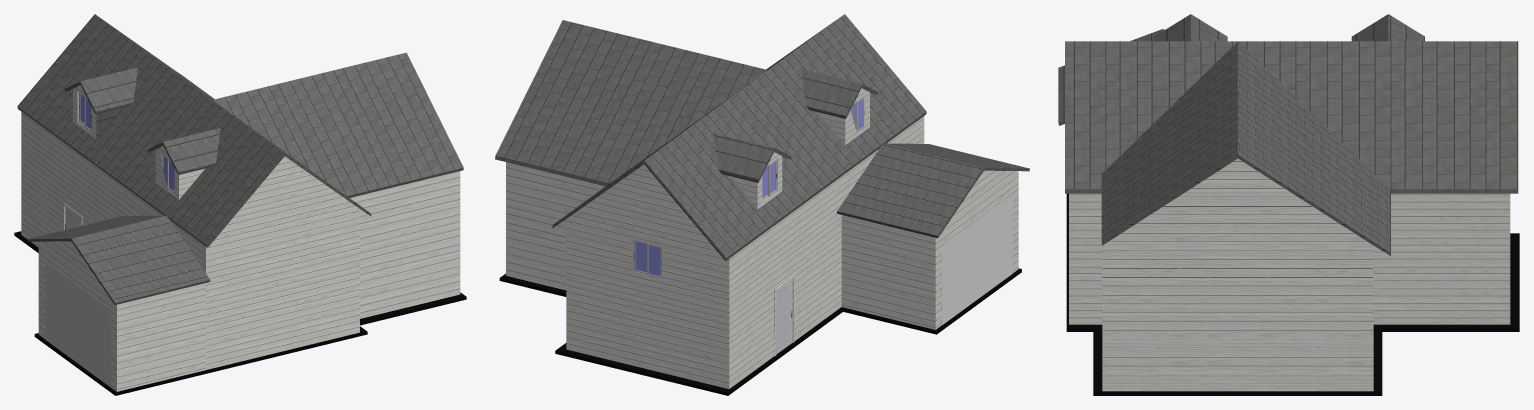
File: Domek2.fbx
3 views of the same model, side by side, from view 1: azimuth 30°, elevation 25°; view 2: azimuth 150°, elevation 25°; view 3: azimuth 270°, elevation 25° (orthographic). The views are drawn at different scales.
Visible parts, largest first — view 1: Walls, Cube.004, Gate, Base, Windows_Sill.001; view 2: Cube.004, Walls, Gate, Base, Cube.003, Windows_Sill, Windows_Sill.001; view 3: Cube.004, Walls, Base.
Part boxes in pixels (x1,y1,x2,y2): Walls: [21, 85, 460, 391]; Cube.004: [17, 14, 463, 304]; Gate: [44, 264, 110, 387]; Base: [14, 224, 466, 395]; Windows_Sill.001: [77, 91, 91, 133]; Cube.004: [495, 14, 1029, 289]; Walls: [506, 88, 1018, 388]; Gate: [941, 194, 1012, 325]; Base: [499, 268, 1021, 395]; Cube.003: [776, 279, 792, 354]; Windows_Sill: [632, 239, 662, 280]; Windows_Sill.001: [762, 158, 777, 202]; Cube.004: [1058, 14, 1518, 255]; Walls: [1069, 158, 1510, 391]; Base: [1066, 193, 1519, 395].
Bounding box in the file's own units: 11.93 × 10.87 × 6.29.
9 materials, 3 textured.
